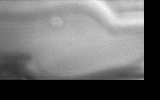cell: (46, 12, 66, 31)
